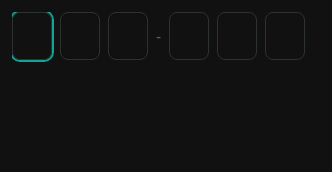
Test: InputOTP › fills slots sequentially when typing
Type "123456" into the field named "Digit 1" at (32,36), box top-left (12, 12), bottom-right (52, 60)
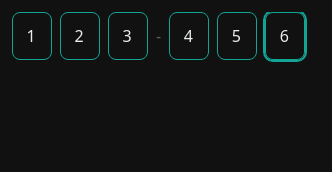
Now the field named "Digit 1" holds "1", box top-left (12, 12), bottom-right (52, 60)
Now the field named "Digit 2" holds "2", box top-left (60, 12), bottom-right (100, 60)
Now the field named "Digit 6" holds "6", box top-left (265, 12), bottom-right (305, 60)
